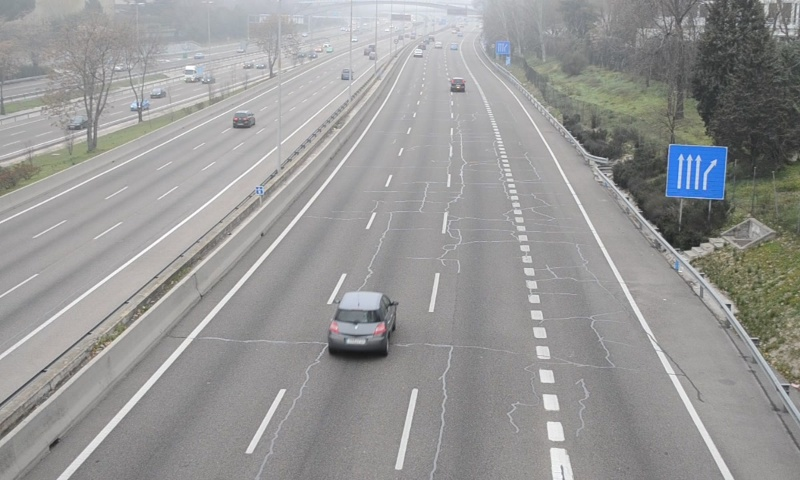car: (329, 292, 395, 354), (450, 78, 465, 91)
